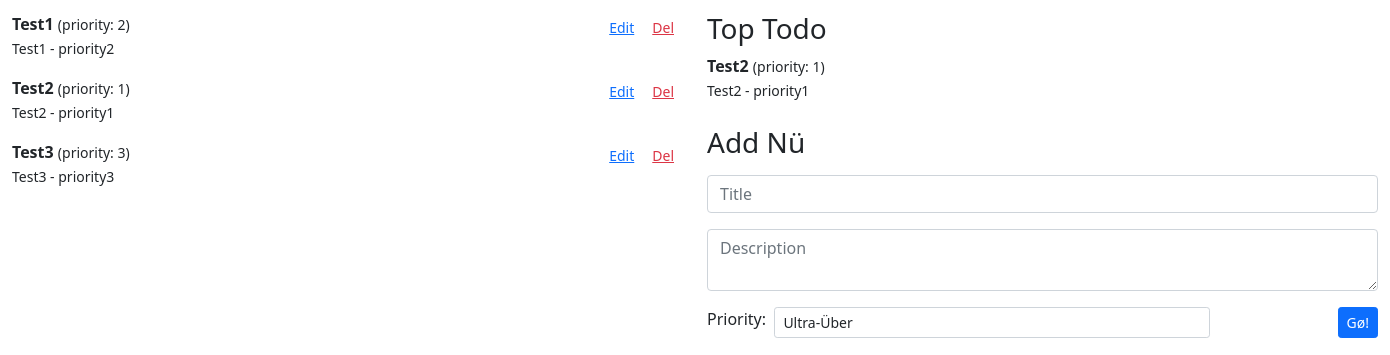
Test: Test form functionality › Test if form fields pre-fill properly (for edit form)
Click the button with class "EditableTodo-toggle" in the row of "Test1 - priority2": coordinates (622, 28) [600,12,643,43]
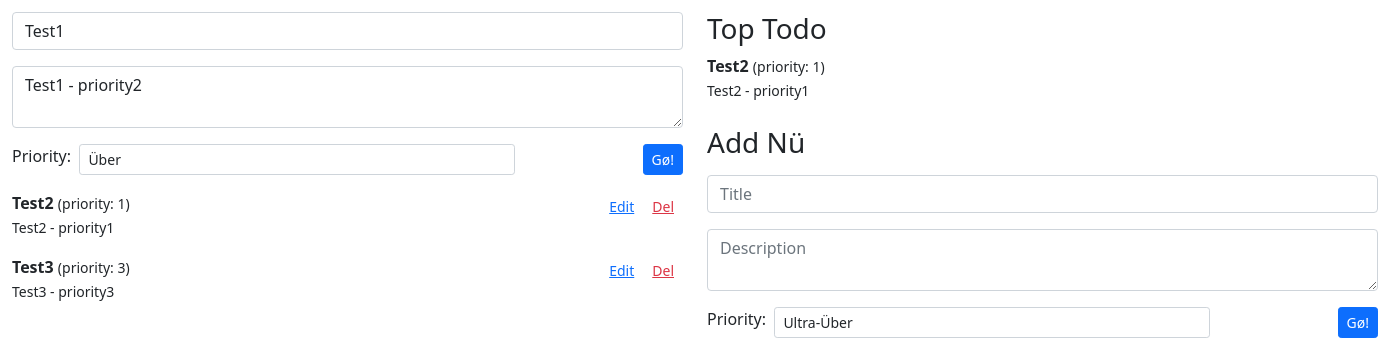
Result: the number of forms with class "NewTodoForm" is 2 at [12,12,683,175]; [707,175,1378,338]
Result: the field with id "newTodo-title" holds "Test1" at [12,12,683,50]
